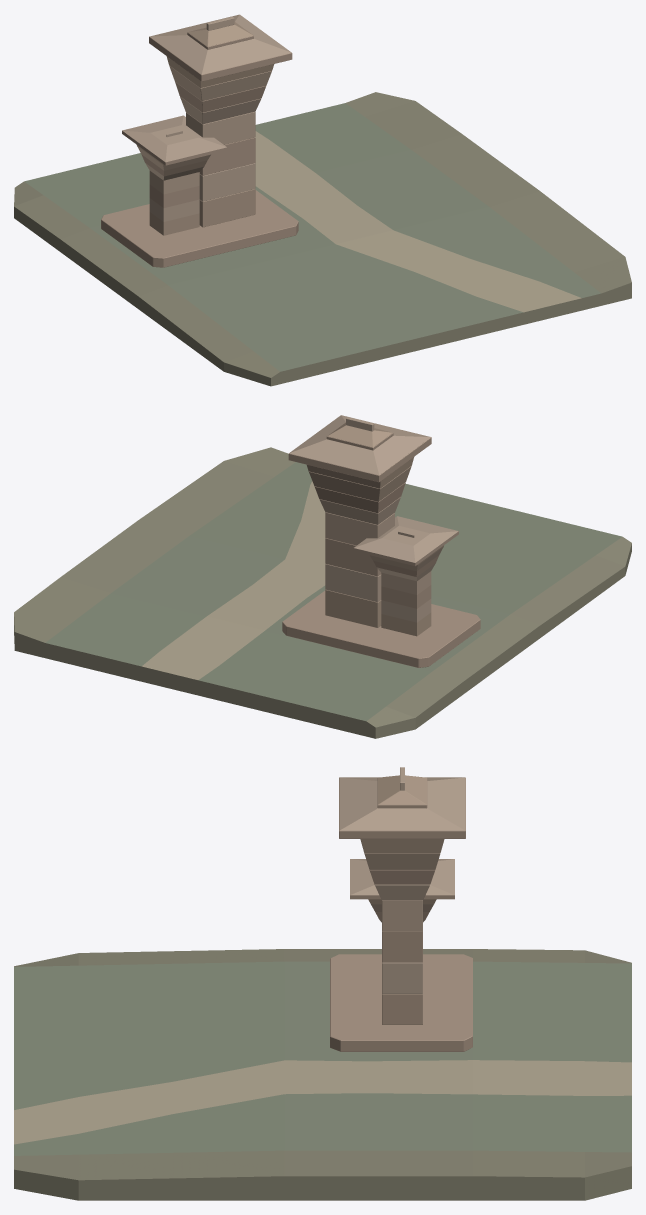
Rendered from que-C.glb.
3 views of the same model, one above another, from view 1: azimuth 30°, elevation 25°; view 2: azimuth 150°, elevation 25°; view 3: azimuth 270°, elevation 25° (orthographic). The views are drawn at different scales.
Visible parts, largest first — view 1: C_continuous_terrain_and_tread, C_original_chamfered_plinth, B_main_lower_cover, B_sub_lower_cover, B_main_shaft_0, B_main_shaft_1, B_main_shaft_3, B_main_transition_2, B_main_shaft_2, B_main_broad_lower_eave, B_main_transition_1, B_main_transition_0 (+6 smaller); view 2: C_continuous_terrain_and_tread, C_original_chamfered_plinth, B_main_lower_cover, B_sub_lower_cover, B_main_shaft_1, B_main_shaft_0, B_main_shaft_3, B_main_transition_2, B_main_shaft_2, B_main_broad_lower_eave, B_main_transition_1, B_main_transition_0 (+6 smaller); view 3: C_continuous_terrain_and_tread, C_original_chamfered_plinth, B_main_lower_cover, B_sub_lower_cover, B_main_compact_upper_cover, B_main_shaft_1, B_main_shaft_2, B_main_shaft_3, B_main_shaft_0, B_main_broad_lower_eave, B_main_transition_2, B_main_transition_3 (+2 smaller).
Boxes of the visible parts, <box> form: C_continuous_terrain_and_tread: <box>14,92,631,386</box>; C_original_chamfered_plinth: <box>101,190,298,267</box>; B_main_lower_cover: <box>149,14,291,74</box>; B_sub_lower_cover: <box>122,115,226,162</box>; B_main_shaft_0: <box>199,189,255,227</box>; B_main_shaft_1: <box>199,163,255,201</box>; B_main_shaft_3: <box>186,112,255,144</box>; B_main_transition_2: <box>169,65,271,101</box>; B_main_shaft_2: <box>199,137,255,175</box>; B_main_broad_lower_eave: <box>149,36,292,81</box>; B_main_transition_1: <box>175,82,265,112</box>; B_main_transition_0: <box>180,96,260,124</box>; C_continuous_terrain_and_tread: <box>14,447,631,738</box>; C_original_chamfered_plinth: <box>282,590,480,667</box>; B_main_lower_cover: <box>289,415,431,475</box>; B_sub_lower_cover: <box>354,516,458,562</box>; B_main_shaft_1: <box>325,564,381,602</box>; B_main_shaft_0: <box>325,589,381,627</box>; B_main_shaft_3: <box>325,512,394,545</box>; B_main_transition_2: <box>308,466,411,501</box>; B_main_shaft_2: <box>325,538,381,576</box>; B_main_broad_lower_eave: <box>288,437,431,482</box>; B_main_transition_1: <box>314,482,405,513</box>; B_main_transition_0: <box>319,497,400,524</box>; C_continuous_terrain_and_tread: <box>14,949,631,1200</box>; C_original_chamfered_plinth: <box>330,954,472,1051</box>; B_main_lower_cover: <box>339,777,465,830</box>; B_sub_lower_cover: <box>350,859,454,895</box>; B_main_compact_upper_cover: <box>378,775,426,804</box>; B_main_shaft_1: <box>382,962,422,993</box>; B_main_shaft_2: <box>382,931,422,962</box>; B_main_shaft_3: <box>382,900,422,931</box>; B_main_shaft_0: <box>382,994,422,1024</box>; B_main_broad_lower_eave: <box>339,778,465,838</box>; B_main_transition_2: <box>364,853,440,869</box>; B_main_transition_3: <box>360,839,444,853</box>.
Bounding box in the file's own units: 9.5 × 5 × 10.5.
